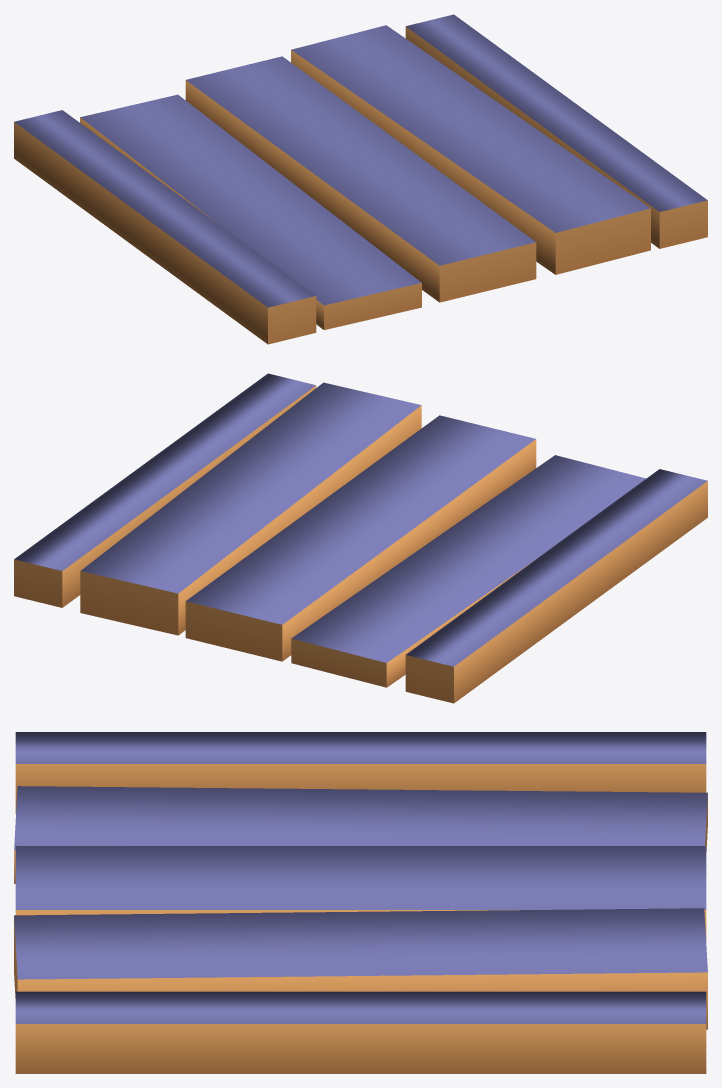
File: platform.fbx
The picture shows the model from 3 angles, top to bottom: view 1: azimuth 30°, elevation 25°; view 2: azimuth 150°, elevation 25°; view 3: azimuth 270°, elevation 25°; orthographic projection. The views are drawn at different scales.
Parts seen in each view (by area): view 1: platform; view 2: platform; view 3: platform.
Part boxes in pixels (bbox=[...]): platform: bbox=[14, 14, 707, 344]; platform: bbox=[14, 373, 707, 703]; platform: bbox=[14, 732, 707, 1073].
Size of the model in its own units: 250 by 22.8 by 251.
